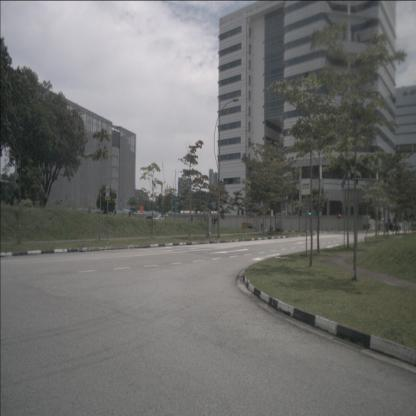vehicle-car: (244, 223, 256, 230), (156, 215, 165, 222), (144, 216, 152, 223)
